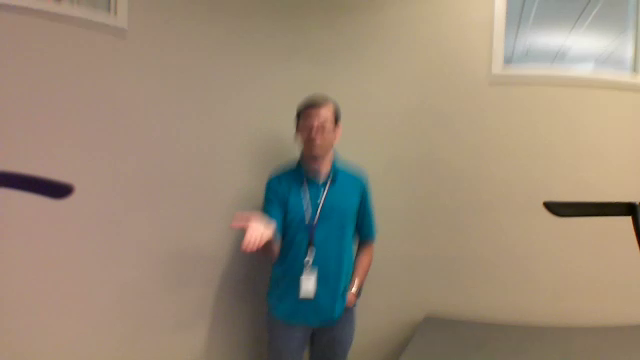land: (224, 207, 279, 257)
